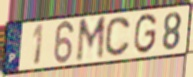1: (31, 22, 45, 68)
6: (53, 19, 75, 65)
8: (162, 11, 183, 51)
C: (104, 15, 132, 58)
G: (132, 12, 159, 56)
M: (75, 14, 108, 65)
